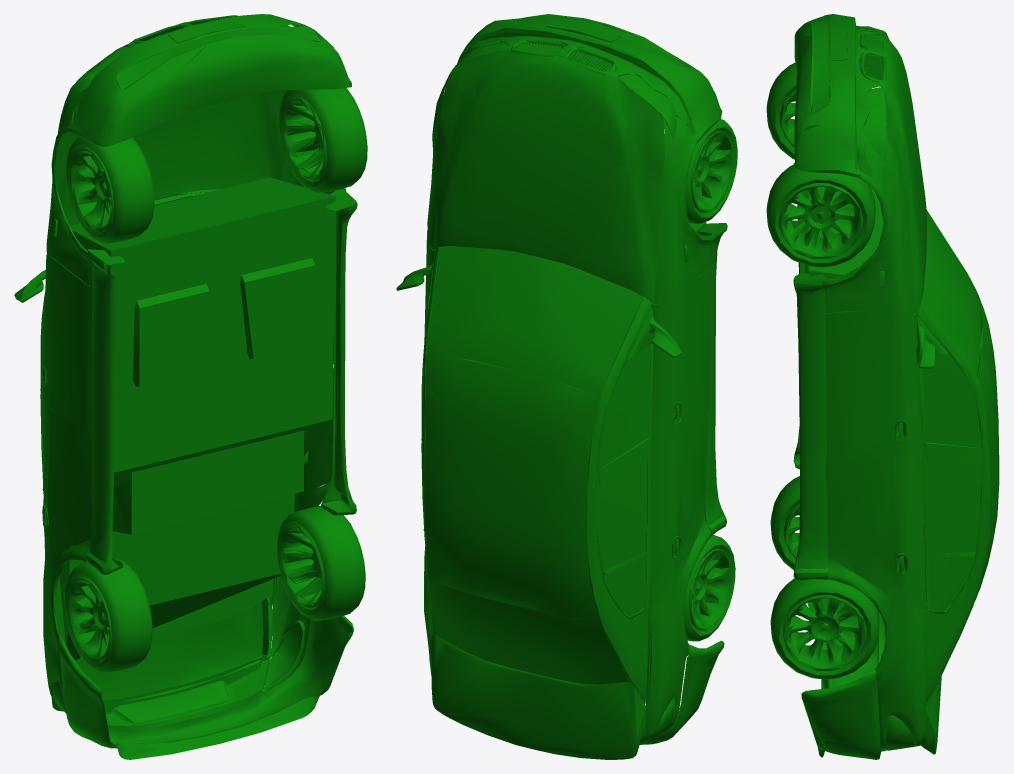
Rendered from bmw.obj.
3 renders of one model, left to right at view 1: azimuth 30°, elevation 25°; view 2: azimuth 150°, elevation 25°; view 3: azimuth 270°, elevation 25°, orthographic. The views are drawn at different scales.
Visible parts, largest first — view 1: bmw7; view 2: bmw7; view 3: bmw7.
Part boxes in pixels (x1,y1,x2,y2): bmw7: (14, 14, 367, 759); bmw7: (396, 14, 737, 759); bmw7: (766, 14, 999, 759).
Bounding box in the file's own units: 8.41 × 19.81 × 6.08.
